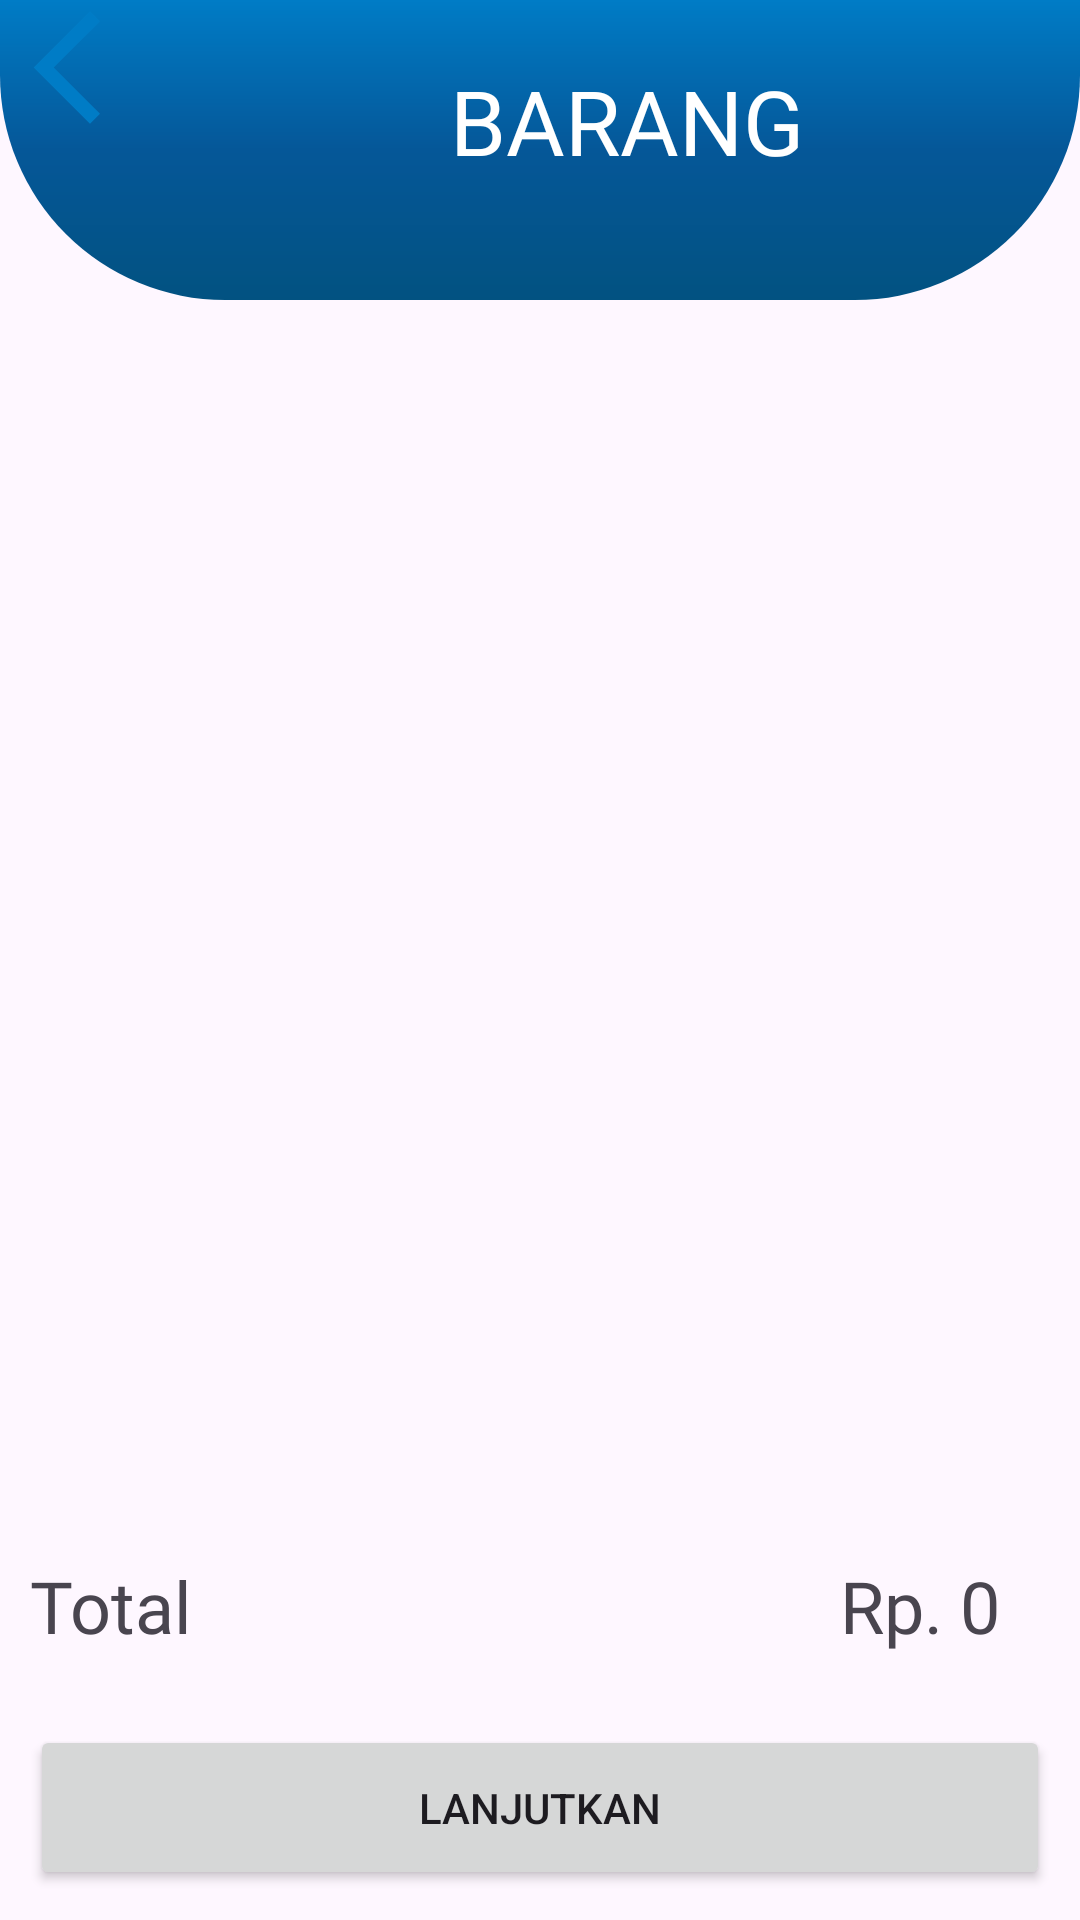

Named icons in this screenshot (1080*1920) and their bounding boxes, (left=x1, top=y1, right=x2, bottom=y2):
back: (left=0, top=0, right=135, bottom=135)
